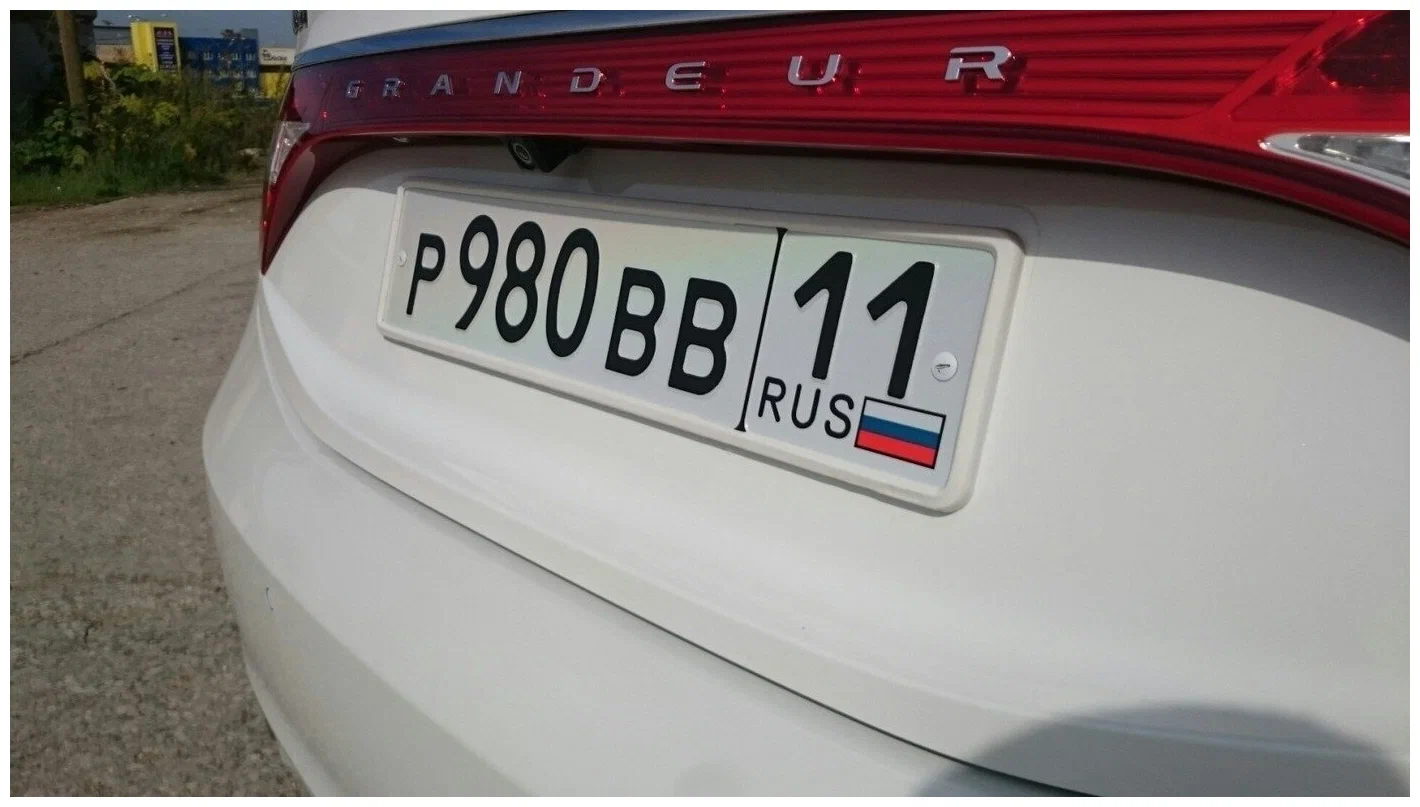number_plate: (370, 200, 1006, 453)
